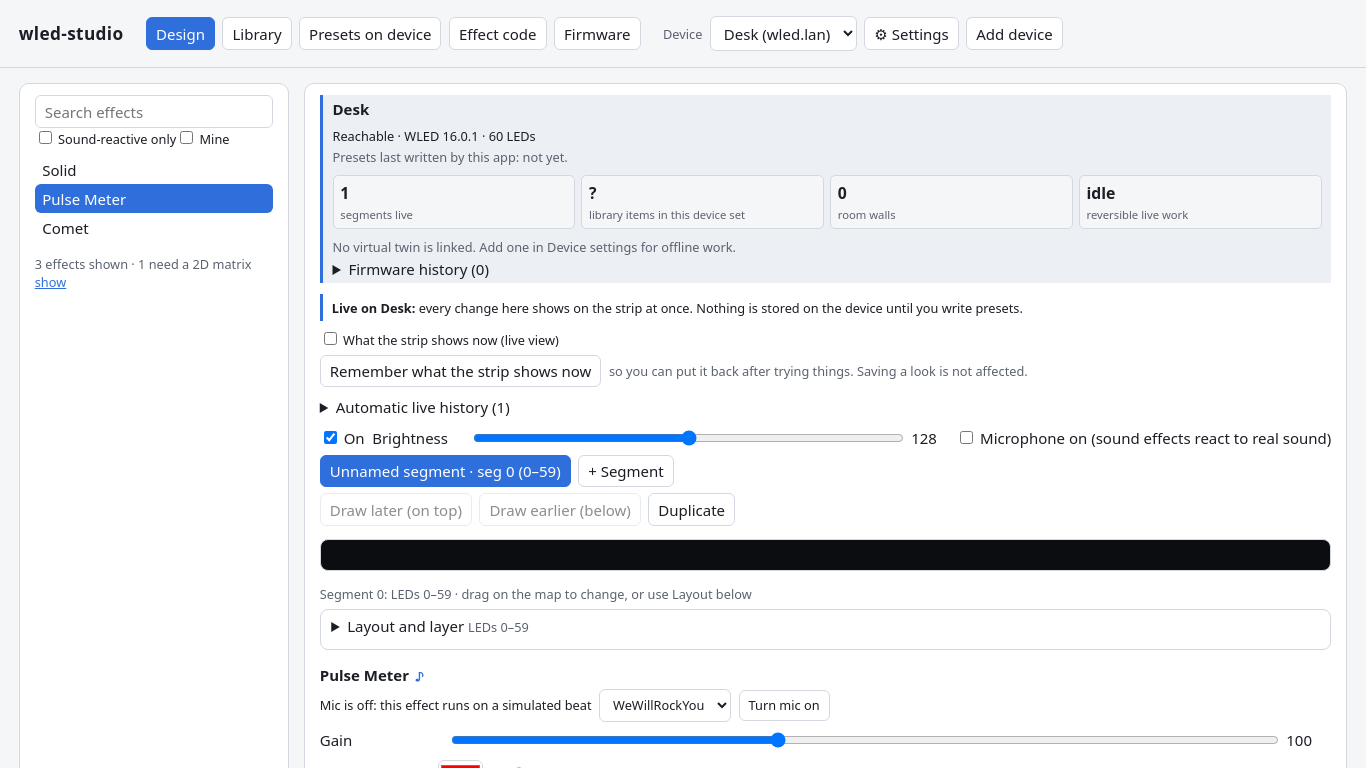
Test: brightness shows its value; a sound effect with the mic off says it runs on a simulated beat
Expected: the heading "Pulse Meter♪" is shown, [320, 665, 424, 685]
Expected: the text "128" is shown, [911, 428, 937, 448]
Select "14/3" in the dropdown named "Sound simulation": (665, 705) [599, 689, 731, 722]
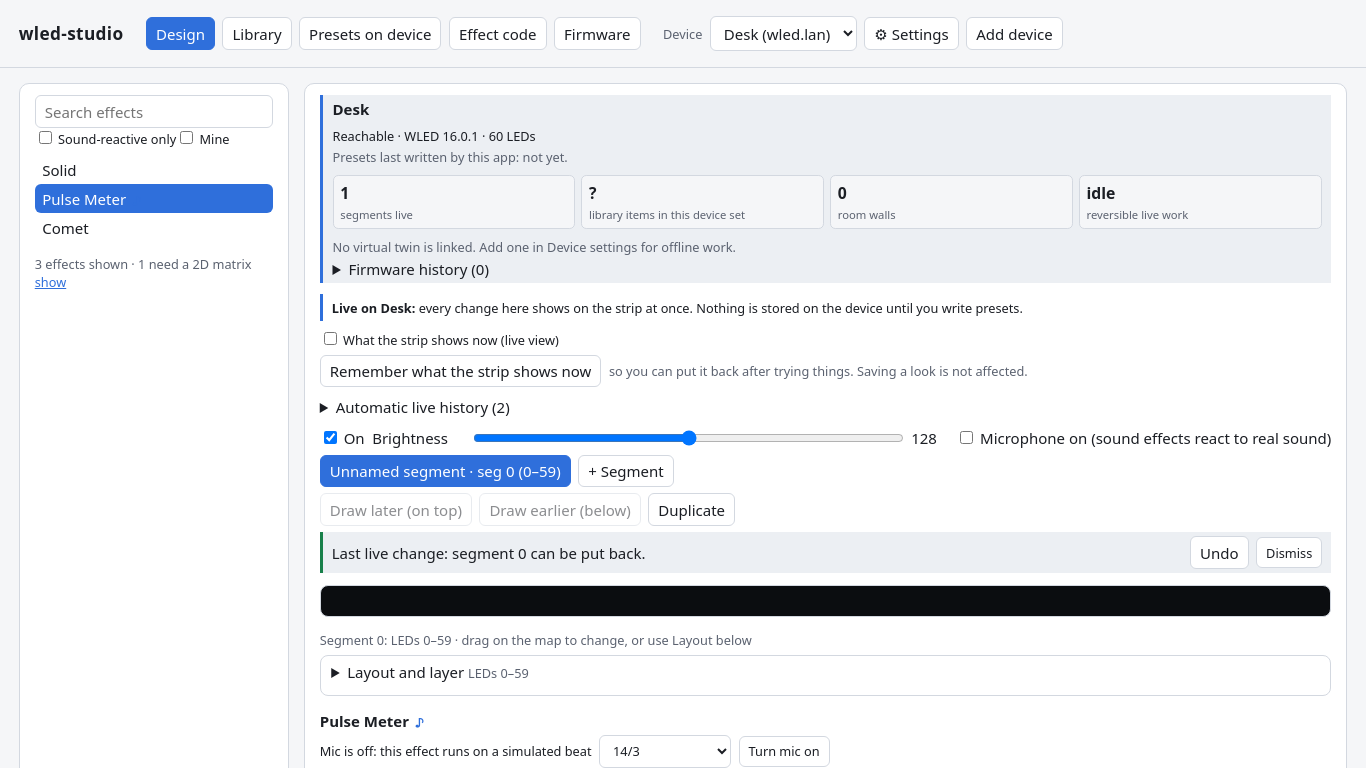
Click the button "Turn mic on": click(784, 751) [739, 736, 830, 766]
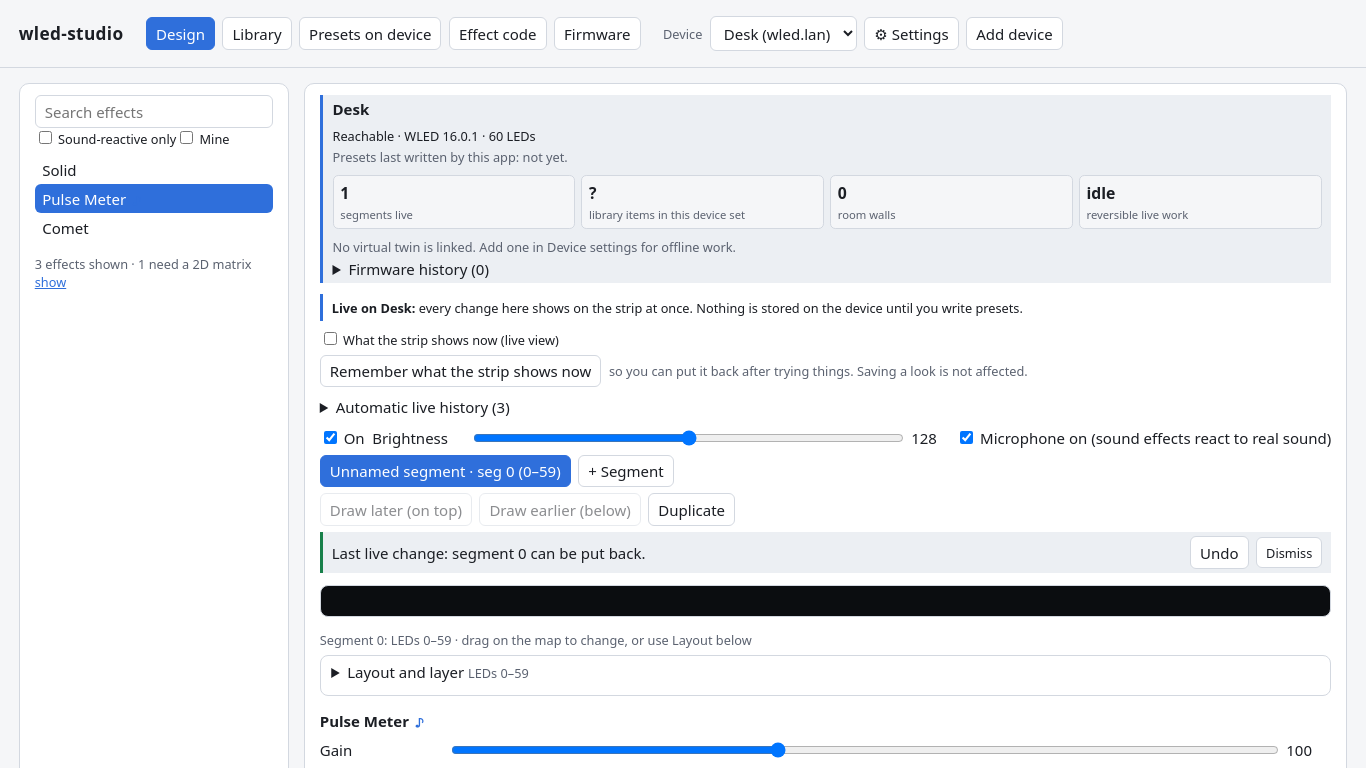
Now the checkbox labelled "Microphone on (sound effects react to real sound)" is checked, box [960, 431, 973, 444]
